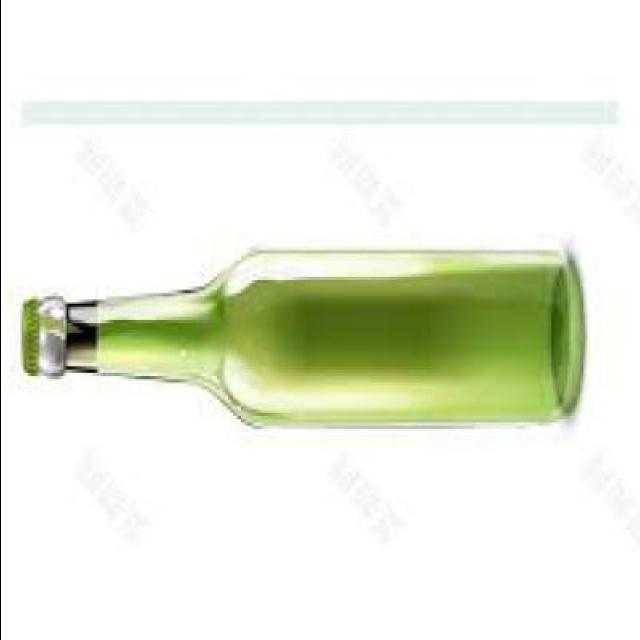kaca: (35, 256, 582, 435)
